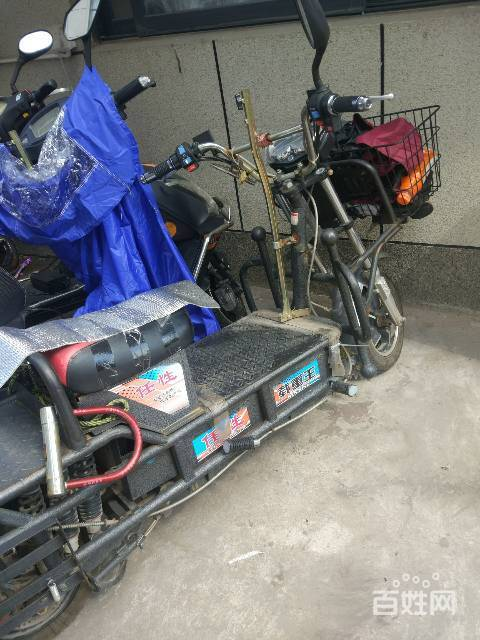电动车: (1, 8, 444, 639)
